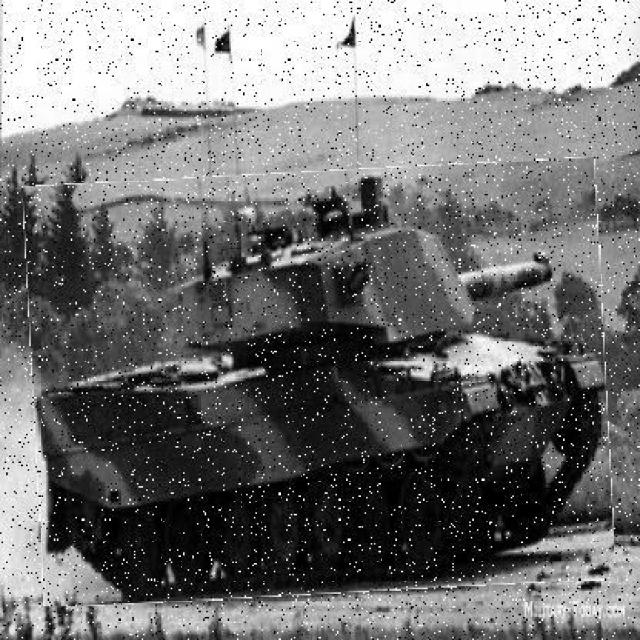Tank: (31, 167, 614, 603)
